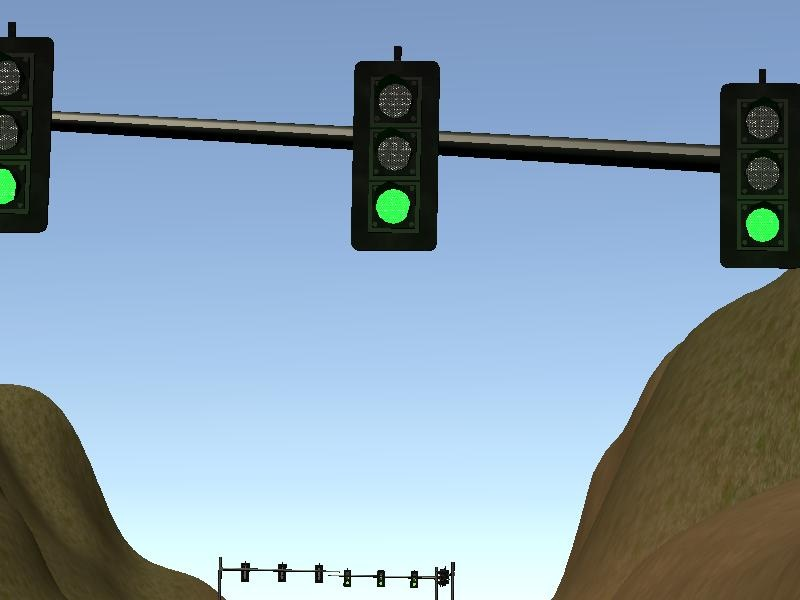GREEN: (353, 60, 438, 252), (720, 81, 800, 268)
